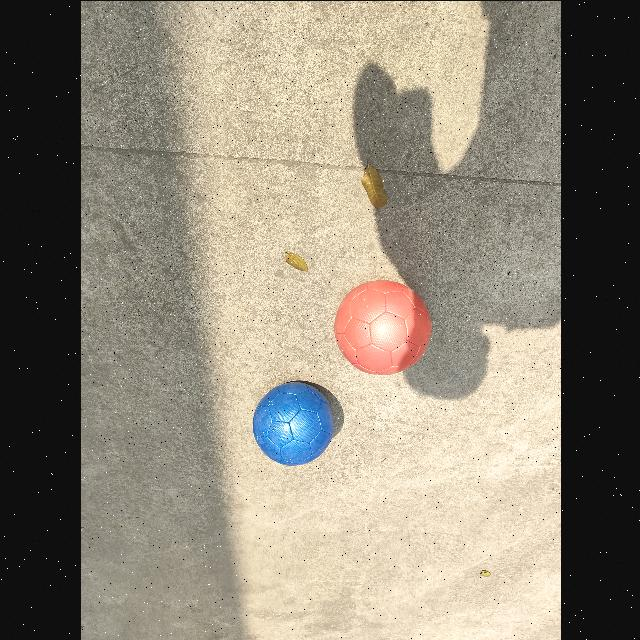B: (250, 378, 344, 464)
R: (333, 276, 431, 373)
